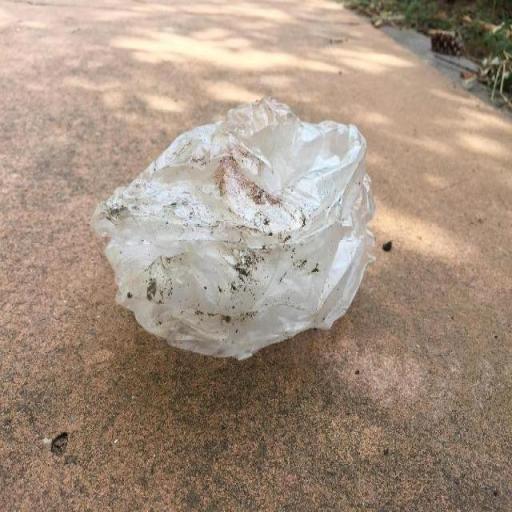plastic-bag: (88, 94, 378, 364)
